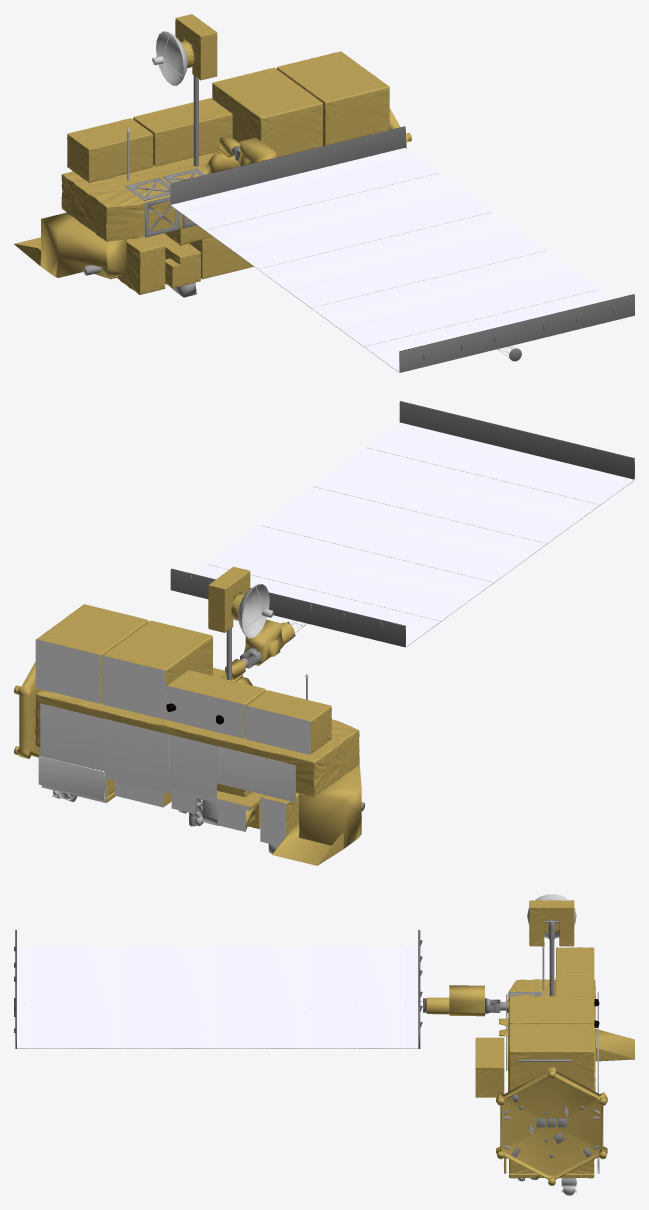
Rendered from terra.glb.
The picture shows the model from 3 angles, top to bottom: view 1: azimuth 30°, elevation 25°; view 2: azimuth 150°, elevation 25°; view 3: azimuth 270°, elevation 25°; orthographic projection. The views are drawn at different scales.
Visible parts, largest first — view 1: Terra_vFINAL [Layer17], Terra_vFINAL [Layer16], Terra_vFINAL [Layer1], Terra_vFINAL [Layer13], Terra_vFINAL [Layer18], Terra_vFINAL [Layer2], Terra_vFINAL [Layer11], Terra_vFINAL [Layer12], Terra_vFINAL [Layer19], Terra_vFINAL [Layer3], Terra_vFINAL [Layer9], Terra_vFINAL [Layer4] (+2 smaller); view 2: Terra_vFINAL [Layer17], Terra_vFINAL [Layer15], Terra_vFINAL [Layer16], Terra_vFINAL [Layer18], Terra_vFINAL [Layer1], Terra_vFINAL [Layer13], Terra_vFINAL [Layer2], Terra_vFINAL [Layer11], Terra_vFINAL [Layer9], Terra_vFINAL [Layer12], Terra_vFINAL [Layer20], Terra_vFINAL [Layer19]; view 3: Terra_vFINAL [Layer17], Terra_vFINAL [Layer18], Terra_vFINAL [Layer2], Terra_vFINAL [Layer13], Terra_vFINAL [Layer19], Terra_vFINAL [Layer10], Terra_vFINAL [Layer9], Terra_vFINAL [Layer11], Terra_vFINAL [Layer16], Terra_vFINAL [Layer1], Terra_vFINAL [Layer12], Terra_vFINAL [Layer6].
Boxes of the visible parts, x1=… form: Terra_vFINAL [Layer17]: x1=171, y1=148, x2=611, y2=371; Terra_vFINAL [Layer16]: x1=170, y1=126, x2=634, y2=372; Terra_vFINAL [Layer1]: x1=61, y1=151, x2=219, y2=245; Terra_vFINAL [Layer13]: x1=212, y1=67, x2=322, y2=157; Terra_vFINAL [Layer18]: x1=14, y1=41, x2=411, y2=279; Terra_vFINAL [Layer2]: x1=276, y1=51, x2=389, y2=145; Terra_vFINAL [Layer11]: x1=67, y1=118, x2=152, y2=182; Terra_vFINAL [Layer12]: x1=133, y1=98, x2=232, y2=166; Terra_vFINAL [Layer19]: x1=83, y1=75, x2=240, y2=297; Terra_vFINAL [Layer3]: x1=117, y1=236, x2=165, y2=294; Terra_vFINAL [Layer9]: x1=175, y1=14, x2=217, y2=80; Terra_vFINAL [Layer4]: x1=153, y1=233, x2=200, y2=288; Terra_vFINAL [Layer17]: x1=194, y1=422, x2=634, y2=646; Terra_vFINAL [Layer15]: x1=35, y1=639, x2=310, y2=845; Terra_vFINAL [Layer16]: x1=170, y1=401, x2=634, y2=647; Terra_vFINAL [Layer18]: x1=14, y1=593, x2=361, y2=865; Terra_vFINAL [Layer1]: x1=35, y1=690, x2=359, y2=797; Terra_vFINAL [Layer13]: x1=103, y1=620, x2=212, y2=719; Terra_vFINAL [Layer2]: x1=37, y1=604, x2=148, y2=703; Terra_vFINAL [Layer11]: x1=247, y1=690, x2=331, y2=754; Terra_vFINAL [Layer9]: x1=208, y1=566, x2=250, y2=632; Terra_vFINAL [Layer12]: x1=167, y1=670, x2=265, y2=737; Terra_vFINAL [Layer20]: x1=238, y1=584, x2=273, y2=638; Terra_vFINAL [Layer19]: x1=69, y1=628, x2=364, y2=853; Terra_vFINAL [Layer17]: x1=17, y1=947, x2=418, y2=1048; Terra_vFINAL [Layer18]: x1=426, y1=920, x2=634, y2=1185; Terra_vFINAL [Layer2]: x1=509, y1=1024, x2=594, y2=1091; Terra_vFINAL [Layer13]: x1=509, y1=996, x2=594, y2=1064; Terra_vFINAL [Layer19]: x1=485, y1=920, x2=600, y2=1181; Terra_vFINAL [Layer10]: x1=475, y1=1037, x2=504, y2=1097; Terra_vFINAL [Layer9]: x1=529, y1=900, x2=574, y2=946; Terra_vFINAL [Layer11]: x1=556, y1=947, x2=594, y2=995; Terra_vFINAL [Layer16]: x1=14, y1=930, x2=426, y2=1048; Terra_vFINAL [Layer1]: x1=508, y1=979, x2=595, y2=1091; Terra_vFINAL [Layer12]: x1=555, y1=975, x2=593, y2=996; Terra_vFINAL [Layer6]: x1=509, y1=1159, x2=594, y2=1173.
Bounding box in the file's own units: 136 × 103 × 261.
